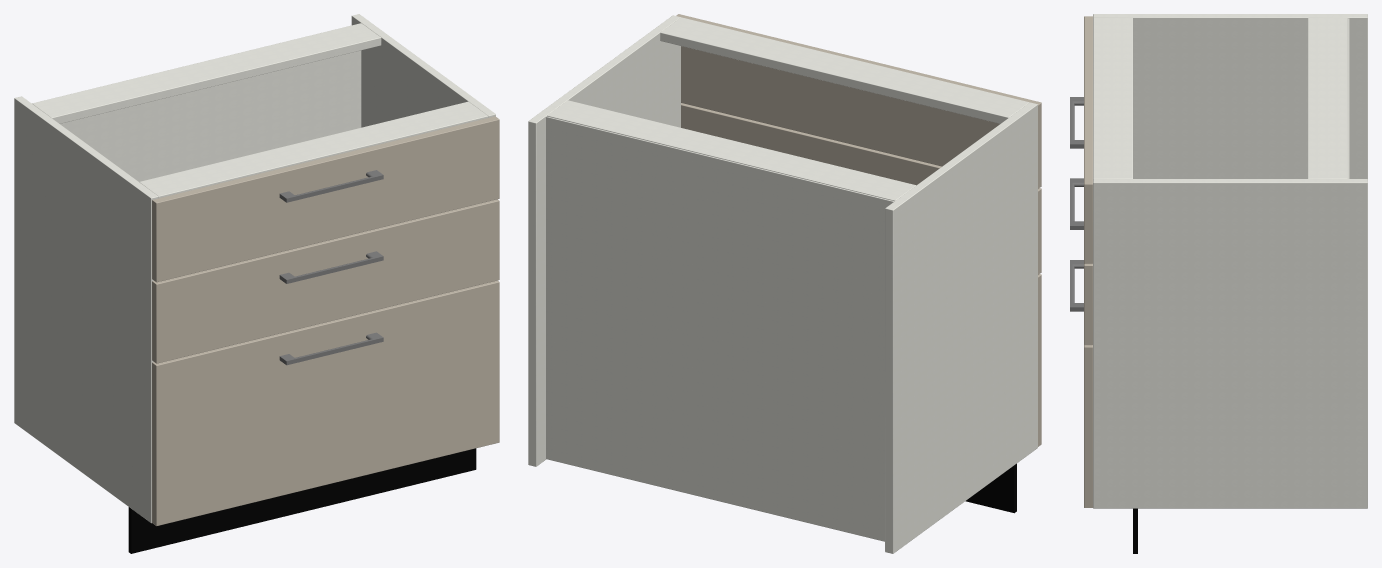
3 renders of one model, left to right at view 1: azimuth 30°, elevation 25°; view 2: azimuth 150°, elevation 25°; view 3: azimuth 270°, elevation 25°, orthographic. The views are drawn at different scales.
Visible parts, largest first — view 1: r20, Stranica Leva, Leđa, Vezna Zadnja H, Vezna Prednja H, Stranica Desna, Union (×3); view 2: Leđa, Stranica Leva, r20, Stranica Desna, Vezna Prednja H, Vezna Zadnja H; view 3: Stranica Desna, Stranica Leva, Vezna Zadnja H, Vezna Prednja H, r20, Union (×3).
Part boxes in pixels (x1,y1,x2,y2): r20: (128, 116, 499, 553); Stranica Leva: (14, 96, 158, 523); Leđa: (60, 50, 361, 181); Vezna Zadnja H: (32, 23, 381, 123); Vezna Prednja H: (139, 101, 488, 198); Stranica Desna: (351, 14, 495, 127); Union (×3): (279, 170, 383, 365); Leđa: (546, 116, 894, 541); Stranica Leva: (885, 102, 1037, 553); r20: (676, 14, 1041, 513); Stranica Desna: (528, 15, 680, 466); Vezna Prednja H: (660, 17, 1029, 123); Vezna Zadnja H: (547, 100, 915, 201); Stranica Desna: (1093, 179, 1367, 508); Stranica Leva: (1093, 14, 1367, 178); Vezna Zadnja H: (1308, 17, 1347, 178); Vezna Prednja H: (1093, 17, 1132, 178); r20: (1084, 16, 1137, 553); Union (×3): (1070, 97, 1083, 311).
Bounding box in the file's own units: 0.8 × 0.82 × 0.596.
Materials: 4 (2 with a texture image).
